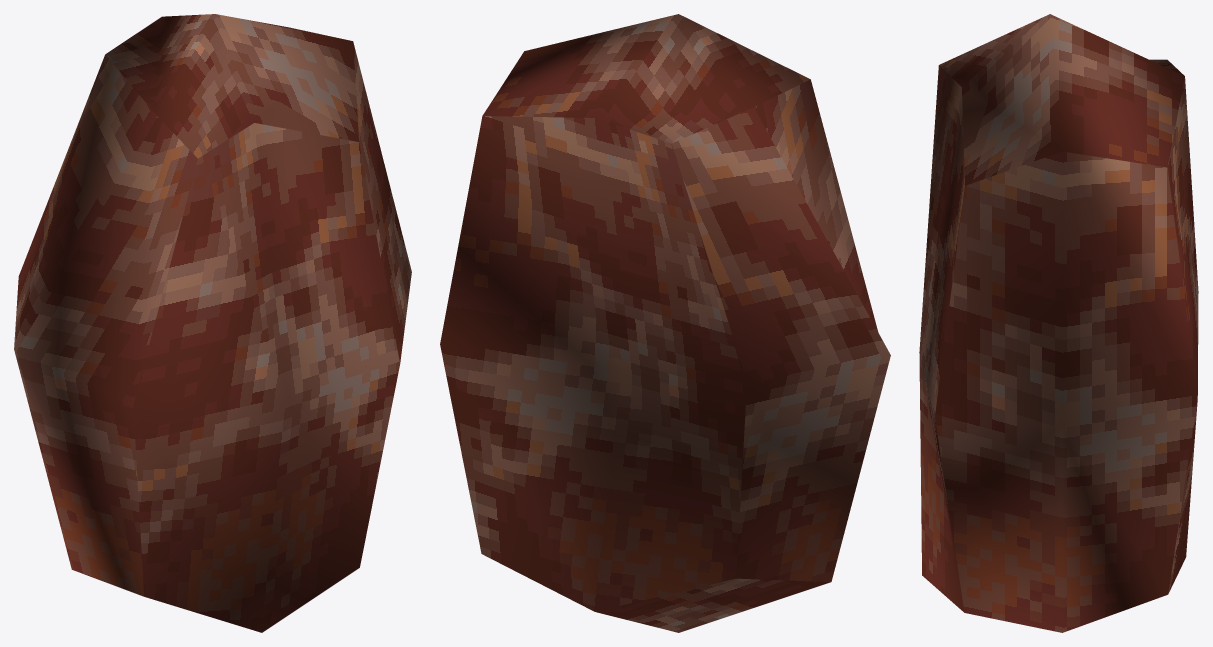
The model's file is meat_slab.glb.
3 renders of one model, left to right at view 1: azimuth 30°, elevation 25°; view 2: azimuth 150°, elevation 25°; view 3: azimuth 270°, elevation 25°, orthographic. The views are drawn at different scales.
Parts seen in each view (by area): view 1: meat_slab; view 2: meat_slab; view 3: meat_slab.
Part boxes in pixels (box(x1,y1,x2,y2)): meat_slab: box(14, 14, 411, 632); meat_slab: box(440, 14, 890, 632); meat_slab: box(919, 14, 1198, 632).
Bounding box in the file's own units: 0.4389 × 0.6206 × 0.2601.
1 material, 1 textured.
